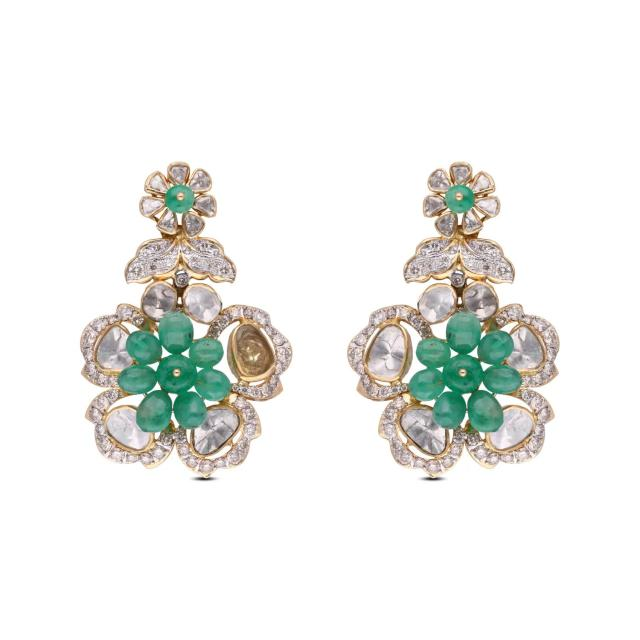missing gem: (236, 325, 273, 376)
